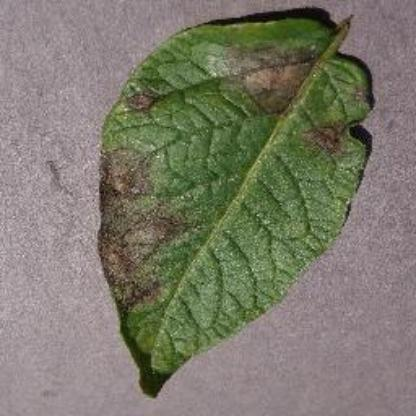Late-Blight: (66, 9, 382, 403)
